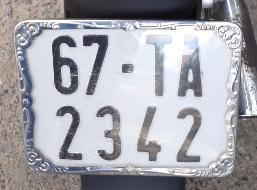2: (49, 103, 86, 165), (173, 103, 207, 166)
3: (89, 103, 125, 162)
4: (134, 103, 170, 162)
6: (46, 31, 81, 97)
7: (81, 30, 111, 100)
A: (175, 30, 204, 102)
T: (140, 30, 174, 100)
